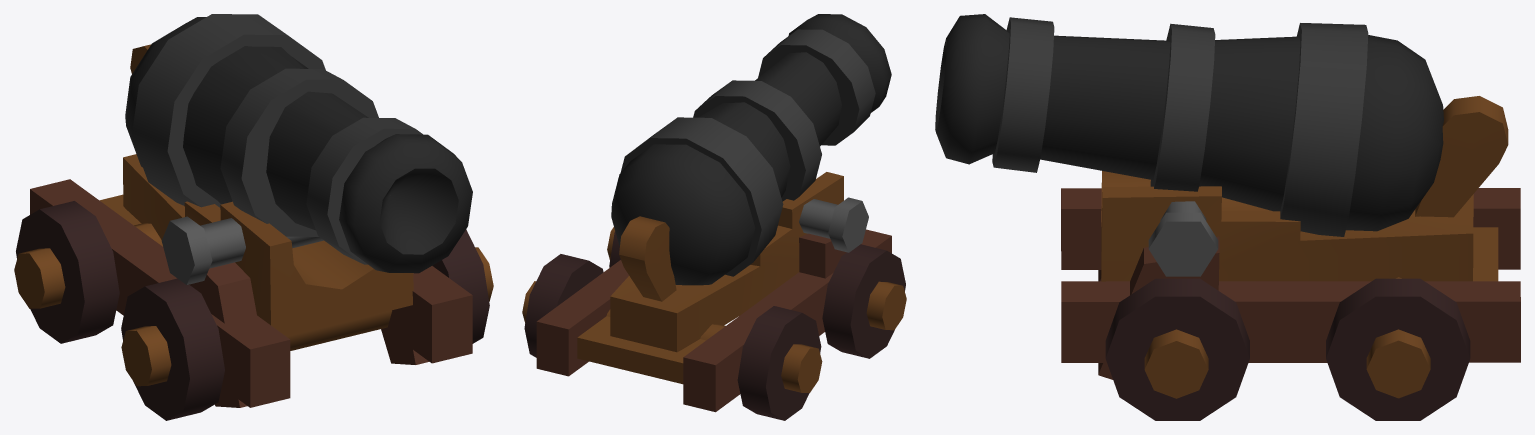
Rendered from cannon_01.fbx.
3 views of the same model, side by side, from view 1: azimuth 30°, elevation 25°; view 2: azimuth 150°, elevation 25°; view 3: azimuth 270°, elevation 25° (orthographic). The views are drawn at different scales.
Visible parts, largest first — view 1: cannon_01; view 2: cannon_01; view 3: cannon_01.
Boxes of the visible parts, box(x1,y1,x2,y2) form: cannon_01: box(14, 14, 493, 420); cannon_01: box(522, 14, 906, 420); cannon_01: box(935, 14, 1520, 420).
Bounding box in the file's own units: 149 × 128 × 210.
